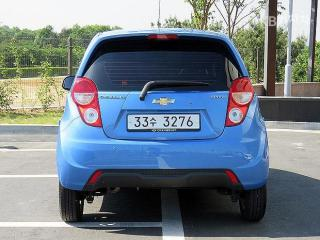2: (170, 115, 177, 127)
3: (133, 115, 142, 127), (141, 115, 149, 127), (161, 116, 170, 126)
6: (186, 116, 194, 126)
7: (177, 116, 184, 126)
plate: (124, 112, 206, 133)
수: (147, 115, 156, 127)
